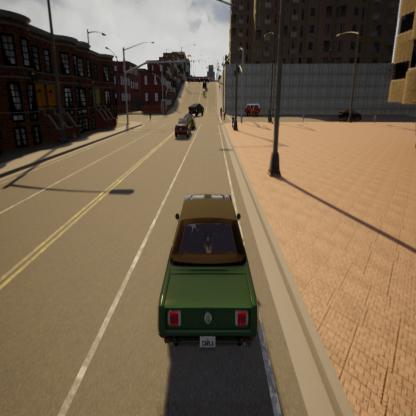Cars: (146, 176, 272, 375), (334, 97, 362, 130), (243, 96, 263, 121), (178, 112, 199, 133), (173, 119, 193, 140), (186, 100, 206, 119), (202, 80, 209, 90), (202, 88, 207, 99)
Pedestrian: (229, 111, 235, 130), (218, 104, 223, 120)
